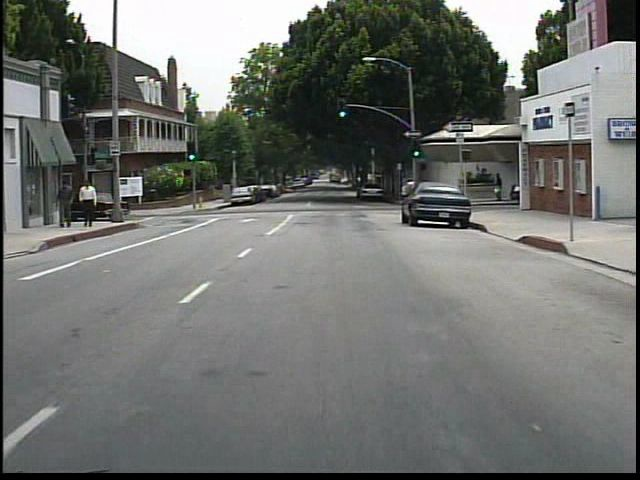person: (85, 179, 107, 229), (59, 180, 80, 231), (489, 170, 507, 205)
